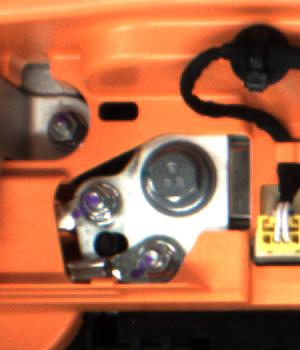nut_b: (139, 139, 220, 220)
screw_s: (79, 181, 117, 227), (49, 113, 87, 153), (138, 243, 179, 280)
